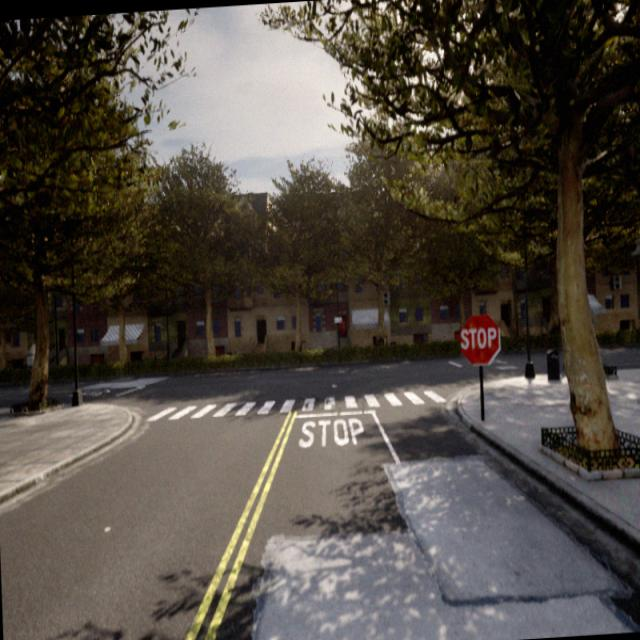stop sign: (457, 311, 502, 367), (460, 324, 498, 351)
